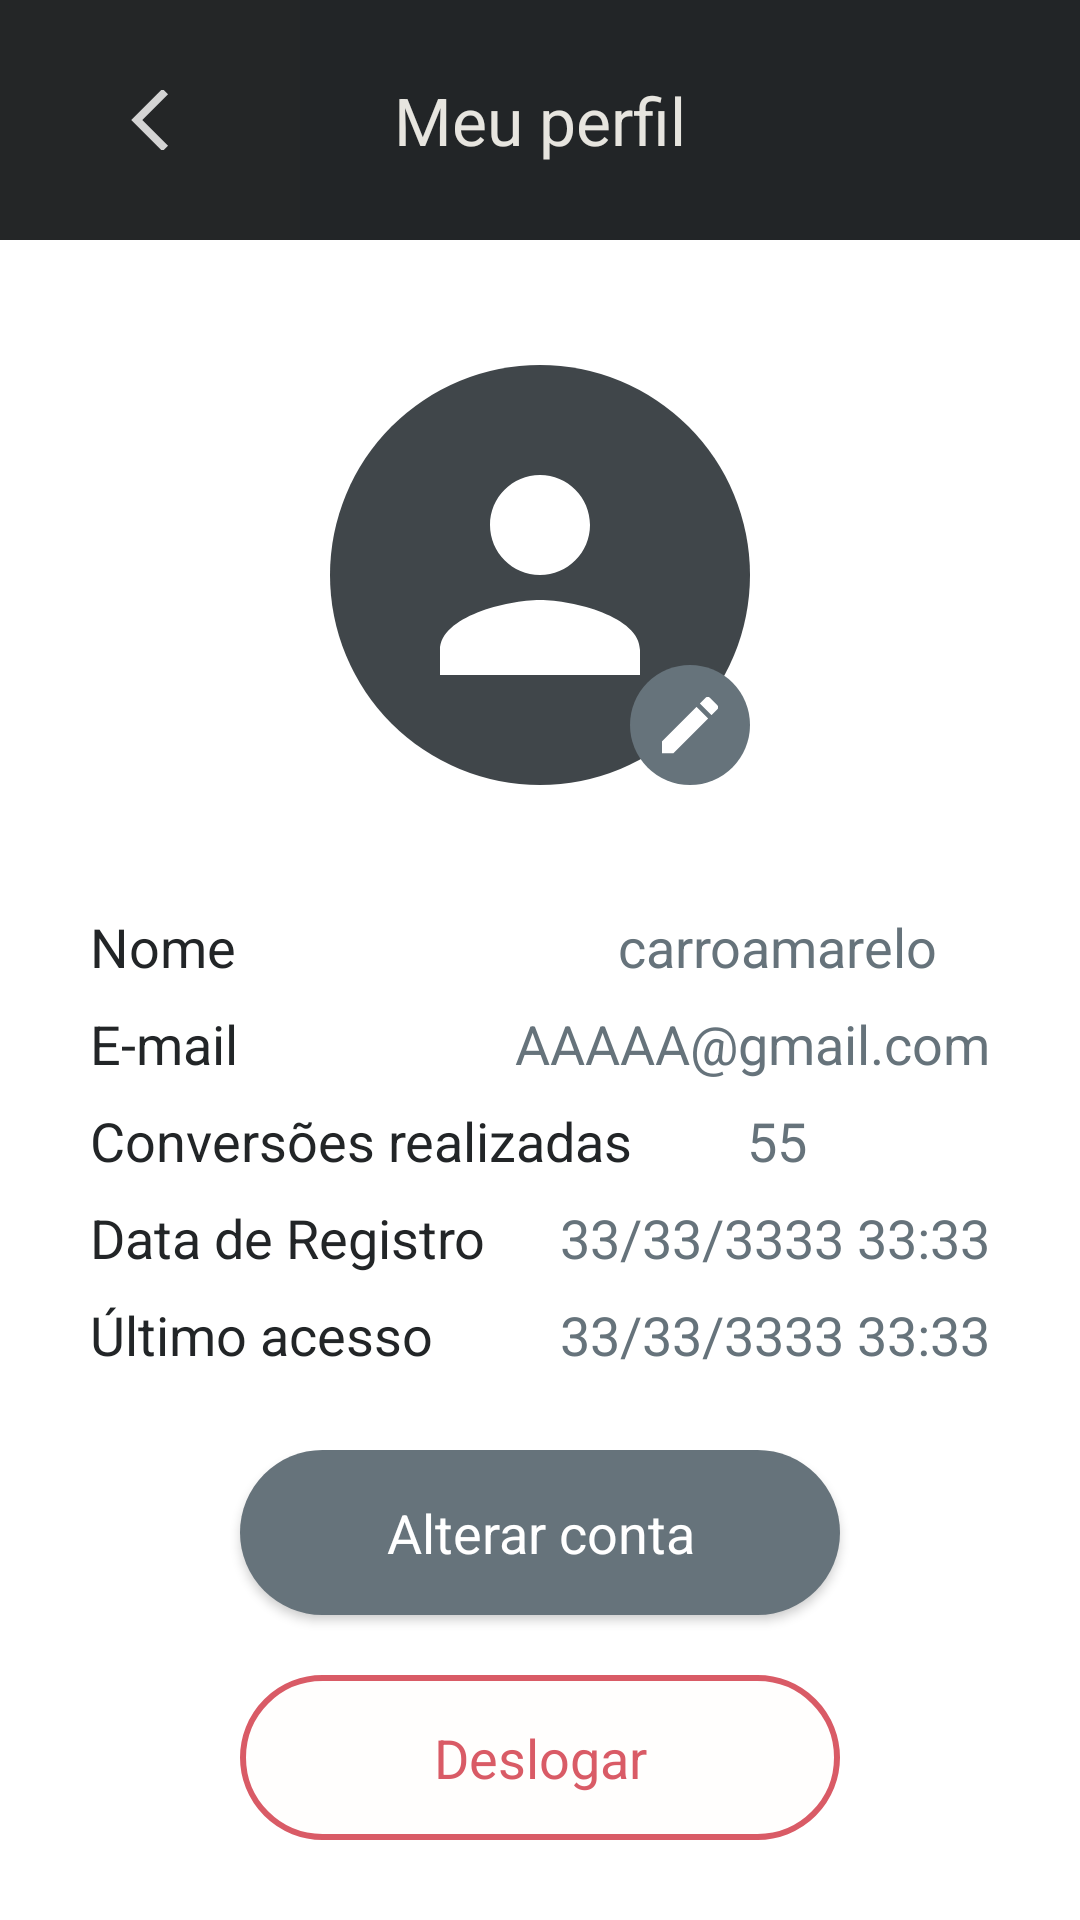

Icon bounding boxes for this 1080 x 1920 phone screenshot, format (x1, y1, x2, y2):
voltar: (131, 90, 168, 150)
